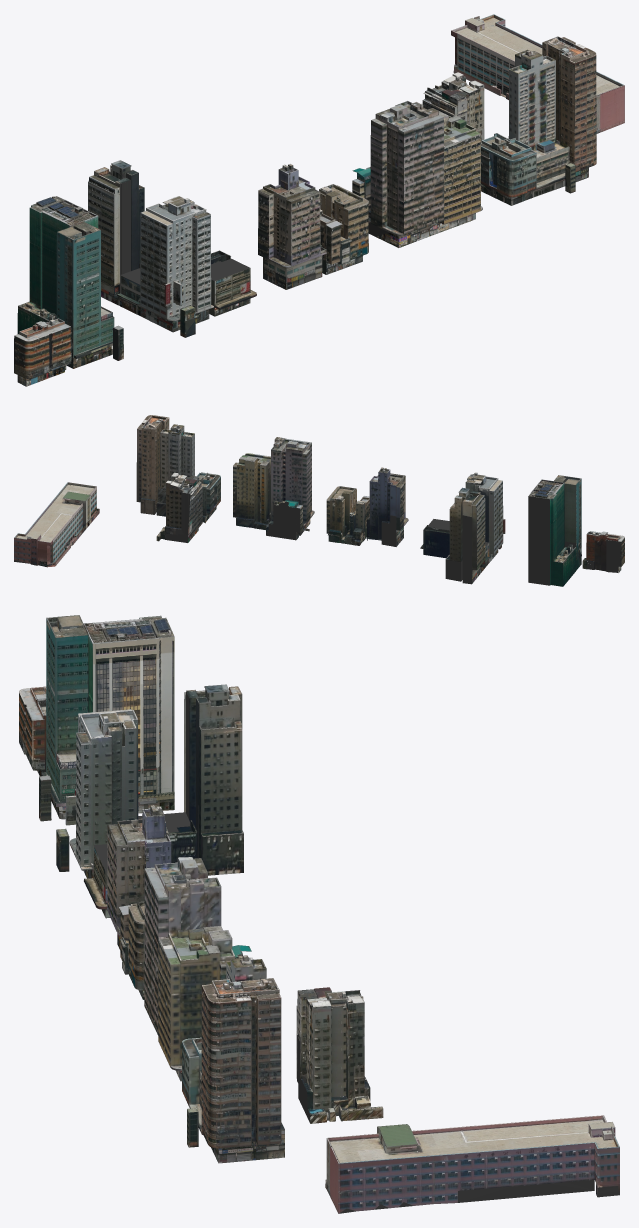
The model's file is mong-kok-north-desktop.glb.
3 renders of one model, top to bottom at view 1: azimuth 30°, elevation 25°; view 2: azimuth 150°, elevation 25°; view 3: azimuth 270°, elevation 25°, orthographic. The views are drawn at different scales.
Parts seen in each view (by area): view 1: Mesh_0.253, Mesh_0.142, Mesh_0.179, Mesh_0.576, Mesh_0.346, Mesh_0.571, Mesh_0.575, Mesh_0.091, Mesh_0.097, Mesh_0.290, Mesh_0.067, Mesh_0.323 (+8 smaller); view 2: Mesh_0.576, Mesh_0.091, Mesh_0.571, Mesh_0.253, Mesh_0.290, Mesh_0.179, Mesh_0.573, Mesh_0.575, Mesh_0.346, Mesh_0.142, Mesh_0.067, Mesh_0.212 (+5 smaller); view 3: Mesh_0.576, Mesh_0.575, Mesh_0.091, Mesh_0.571, Mesh_0.573, Mesh_0.142, Mesh_0.290, Mesh_0.253, Mesh_0.097, Mesh_0.179, Mesh_0.067, Mesh_0.098 (+5 smaller).
Boxes of the visible parts, x1=… form: Mesh_0.253: x1=368, y1=101, x2=443, y2=247; Mesh_0.142: x1=140, y1=196, x2=213, y2=332; Mesh_0.179: x1=258, y1=164, x2=326, y2=289; Mesh_0.576: x1=451, y1=14, x2=624, y2=133; Mesh_0.346: x1=508, y1=49, x2=569, y2=198; Mesh_0.571: x1=88, y1=160, x2=144, y2=305; Mesh_0.575: x1=542, y1=36, x2=596, y2=181; Mesh_0.091: x1=17, y1=196, x2=98, y2=333; Mesh_0.097: x1=56, y1=222, x2=100, y2=326; Mesh_0.290: x1=439, y1=111, x2=482, y2=232; Mesh_0.067: x1=14, y1=318, x2=71, y2=386; Mesh_0.323: x1=481, y1=136, x2=527, y2=205; Mesh_0.576: x1=14, y1=482, x2=99, y2=567; Mesh_0.091: x1=528, y1=479, x2=576, y2=586; Mesh_0.571: x1=445, y1=487, x2=485, y2=584; Mesh_0.253: x1=269, y1=437, x2=314, y2=535; Mesh_0.290: x1=233, y1=453, x2=270, y2=529; Mesh_0.179: x1=366, y1=467, x2=408, y2=546; Mesh_0.573: x1=156, y1=472, x2=202, y2=542; Mesh_0.575: x1=136, y1=415, x2=169, y2=514; Mesh_0.346: x1=156, y1=424, x2=194, y2=516; Mesh_0.142: x1=465, y1=472, x2=505, y2=562; Mesh_0.067: x1=582, y1=531, x2=624, y2=572; Mesh_0.212: x1=326, y1=486, x2=356, y2=543; Mesh_0.576: x1=325, y1=1115, x2=619, y2=1213; Mesh_0.575: x1=201, y1=978, x2=284, y2=1163; Mesh_0.091: x1=83, y1=615, x2=174, y2=813; Mesh_0.571: x1=184, y1=684, x2=243, y2=875; Mesh_0.573: x1=296, y1=987, x2=383, y2=1123; Mesh_0.142: x1=65, y1=709, x2=138, y2=878; Mesh_0.290: x1=158, y1=926, x2=235, y2=1081; Mesh_0.253: x1=144, y1=857, x2=221, y2=1035; Mesh_0.097: x1=46, y1=615, x2=87, y2=753; Mesh_0.179: x1=107, y1=805, x2=171, y2=949; Mesh_0.067: x1=19, y1=686, x2=46, y2=776; Mesh_0.098: x1=41, y1=734, x2=76, y2=819.
Bounding box in the file's own units: 323 × 57.45 × 175.
39 materials, 39 textured.
